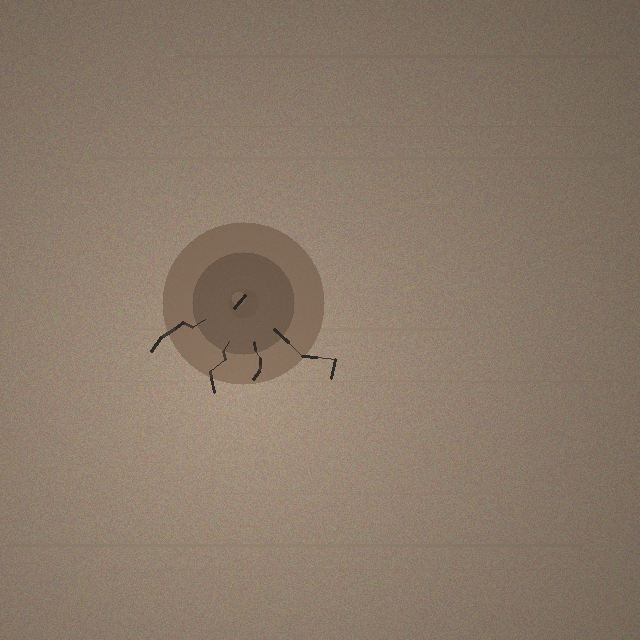crack: (162, 222, 324, 384)
